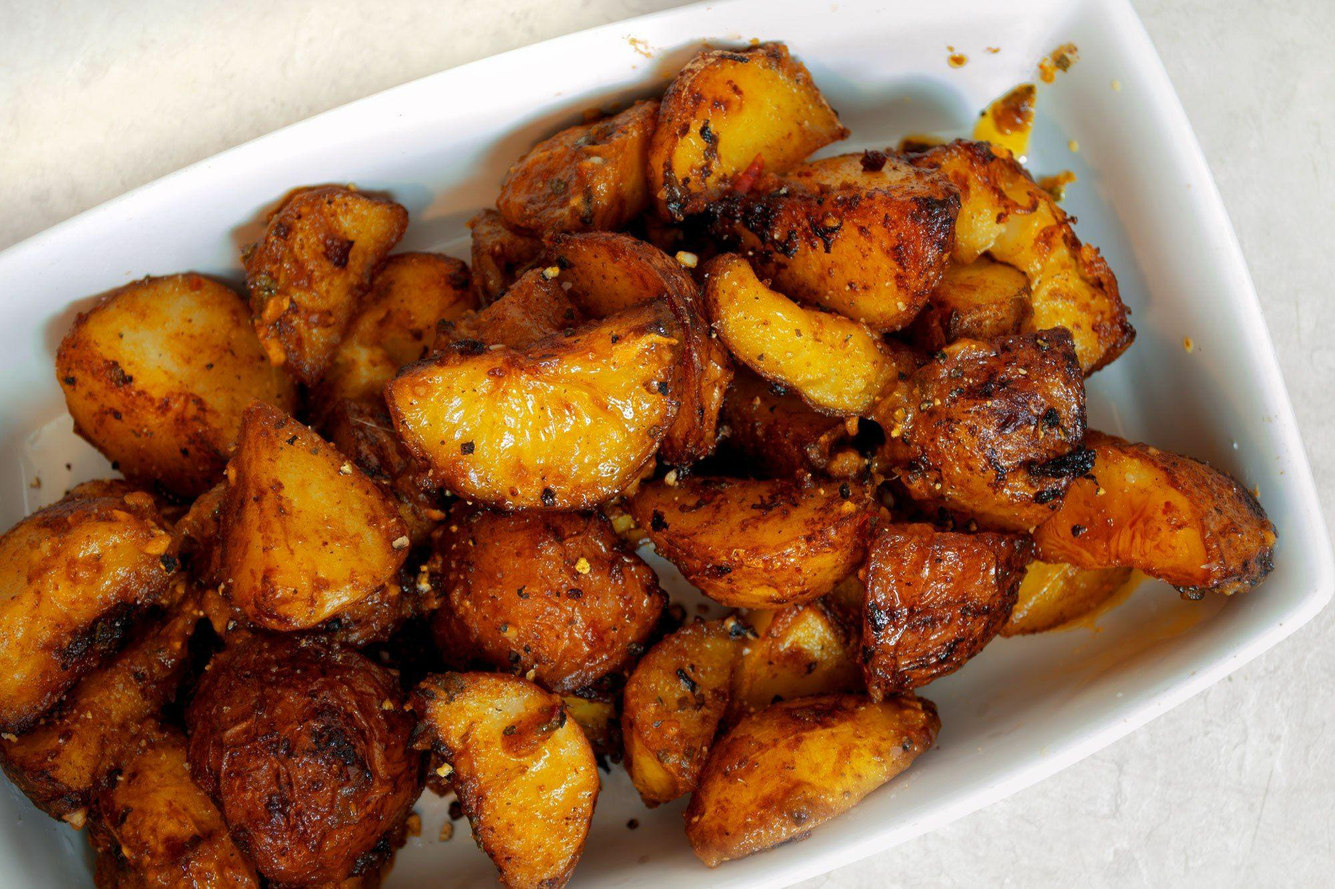AlooMasala: (0, 41, 1281, 889)
